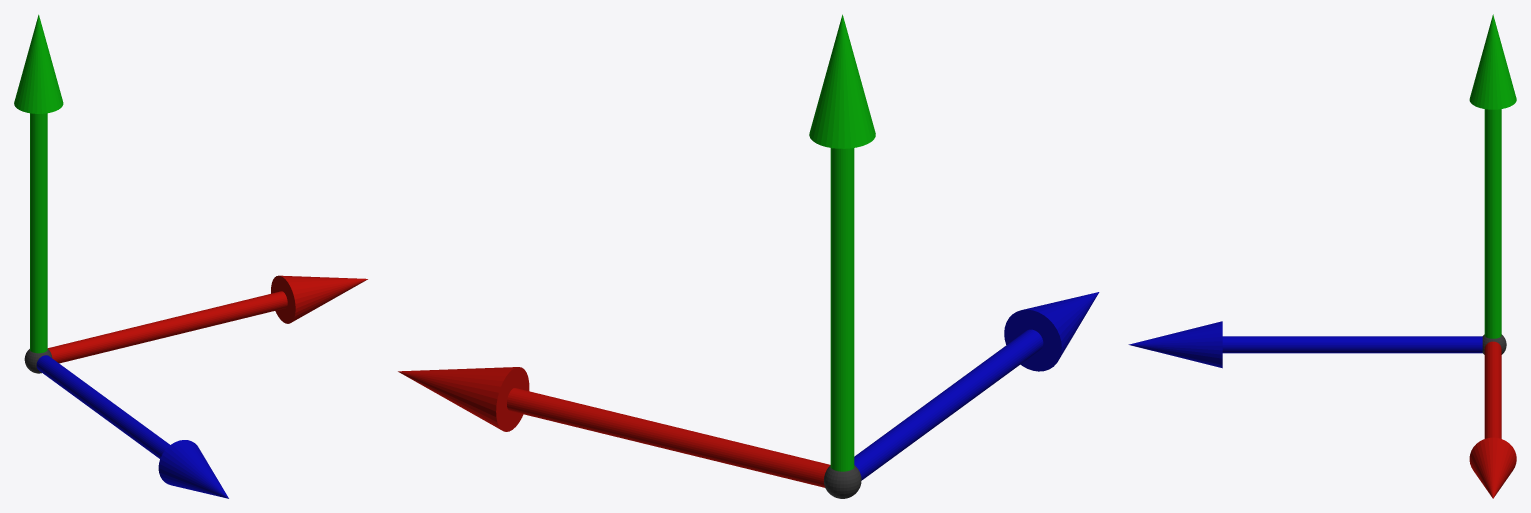
Rendered from axes_blender.fbx.
3 renders of one model, left to right at view 1: azimuth 30°, elevation 25°; view 2: azimuth 150°, elevation 25°; view 3: azimuth 270°, elevation 25°, orthographic. The views are drawn at different scales.
Visible parts, largest first — view 1: Cylinder, Cylinder.002, Cylinder.001; view 2: Cylinder, Cylinder.002, Cylinder.001, Sphere; view 3: Cylinder.001, Cylinder, Cylinder.002.
Boxes of the visible parts, left/top/right/bottom form: Cylinder: left=14, top=14, right=63, bottom=353; Cylinder.002: left=48, top=275, right=367, bottom=363; Cylinder.001: left=36, top=355, right=228, bottom=498; Cylinder: left=809, top=14, right=875, bottom=471; Cylinder.002: left=398, top=367, right=830, bottom=487; Cylinder.001: left=854, top=292, right=1099, bottom=480; Sphere: left=824, top=465, right=861, bottom=498; Cylinder.001: left=1128, top=321, right=1482, bottom=368; Cylinder: left=1469, top=14, right=1516, bottom=338; Cylinder.002: left=1469, top=341, right=1516, bottom=498.
Bounding box in the file's own units: 0.575 × 0.575 × 0.575.
